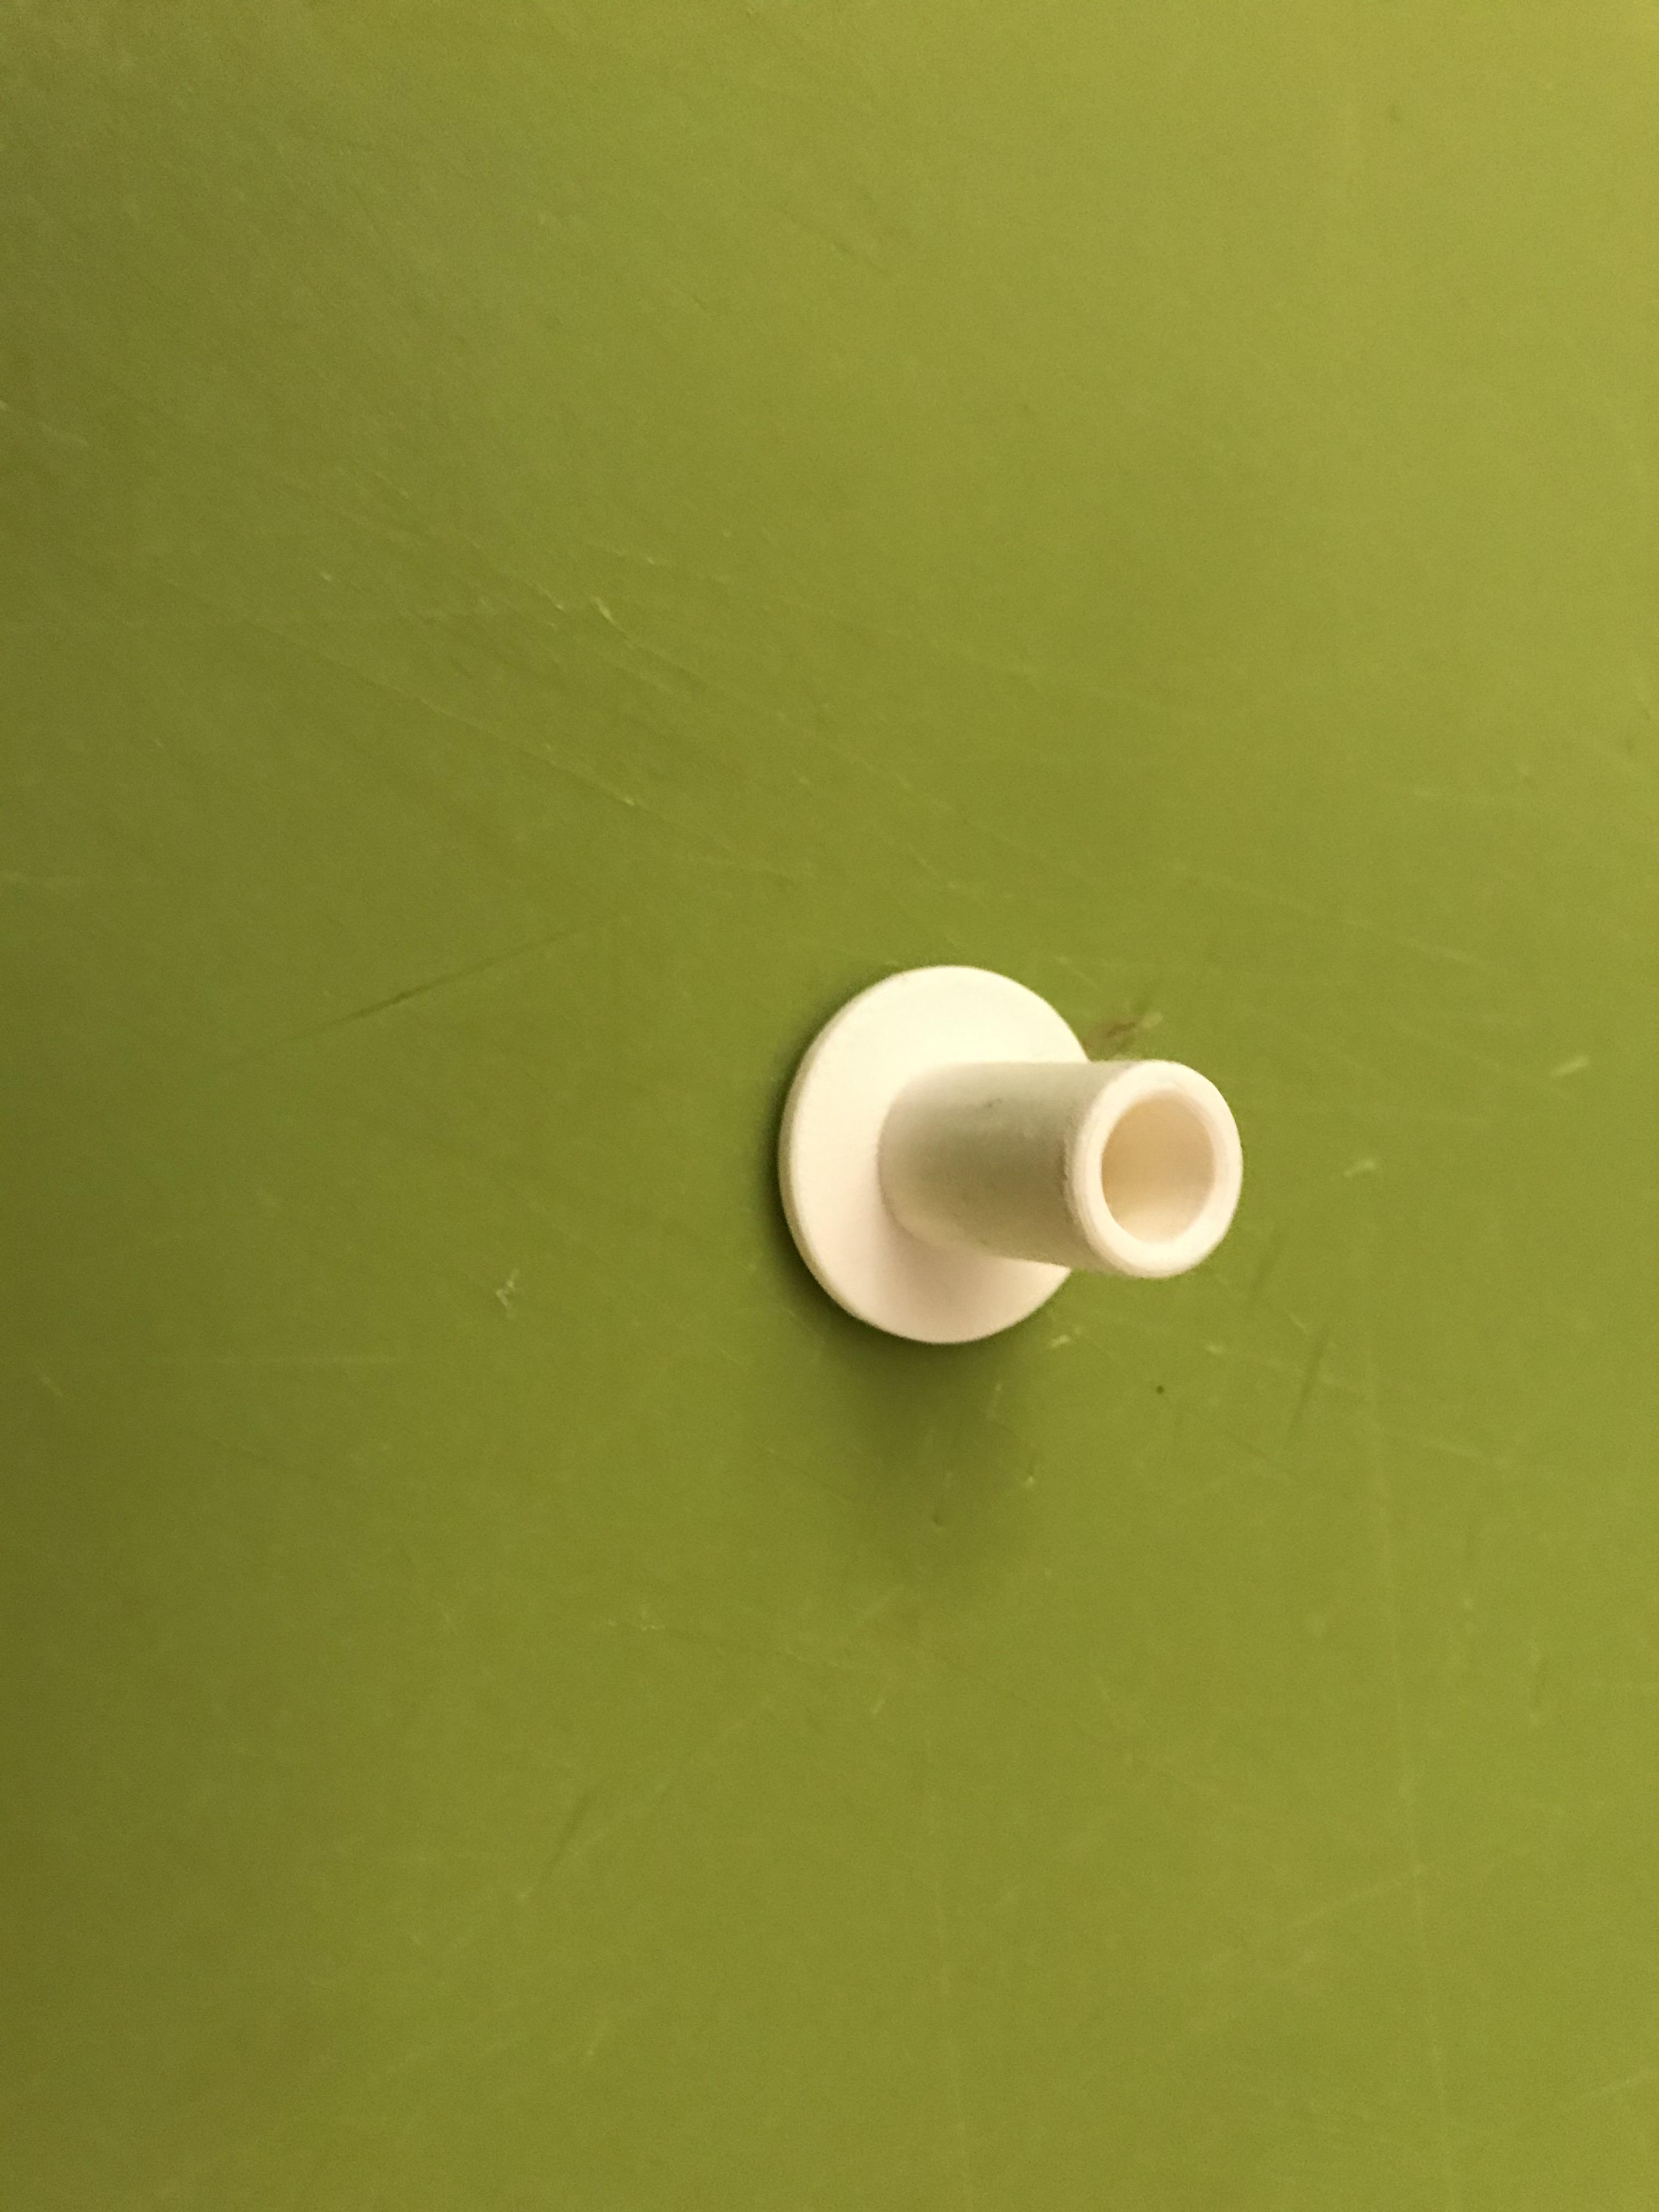White Cone: (765, 958, 1249, 1366)
